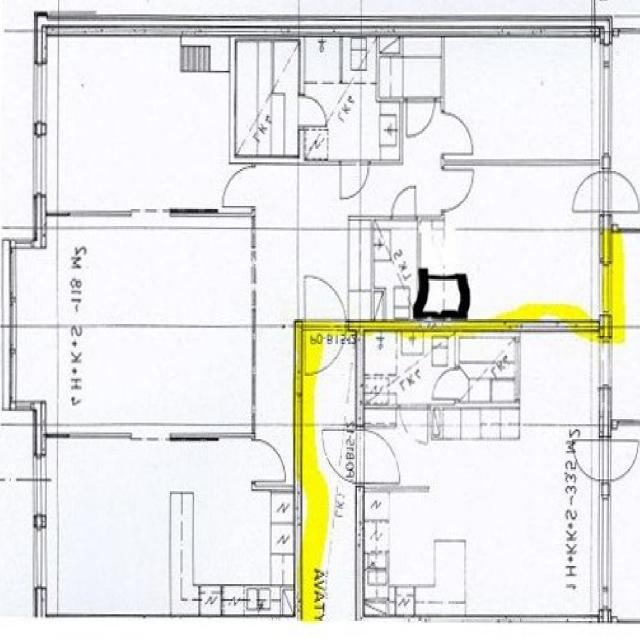door: (306, 321, 346, 384), (306, 268, 346, 330), (568, 171, 612, 212), (600, 171, 640, 211), (442, 169, 477, 211), (252, 439, 287, 481), (442, 114, 477, 155), (221, 168, 255, 206), (406, 97, 435, 139), (341, 160, 369, 201), (299, 95, 328, 126), (392, 185, 415, 220)
